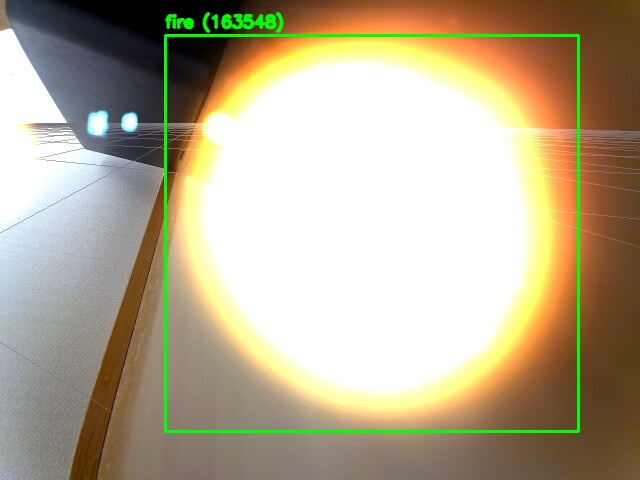fire: (165, 35, 578, 431)
